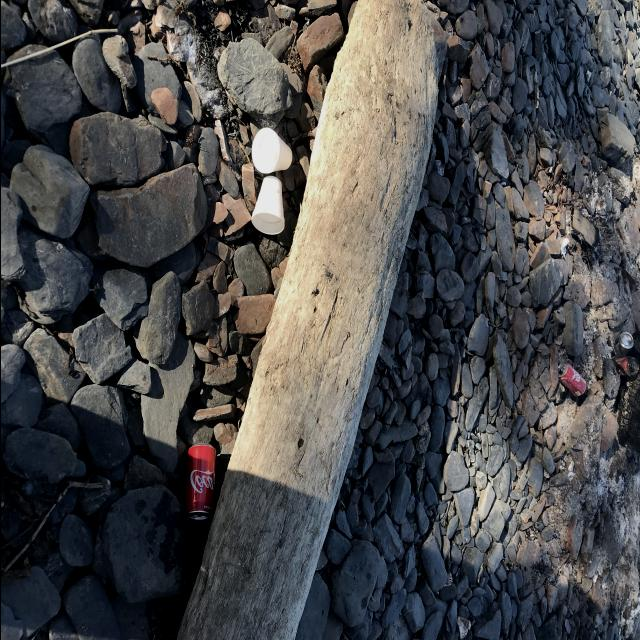Drink can: (184, 442, 215, 520), (558, 363, 585, 397), (611, 355, 638, 376), (617, 331, 633, 354)
Foam cup: (250, 176, 284, 235), (251, 127, 291, 174)
Pop tab: (560, 365, 564, 372)
Unlabeled litter: (559, 238, 569, 255)
